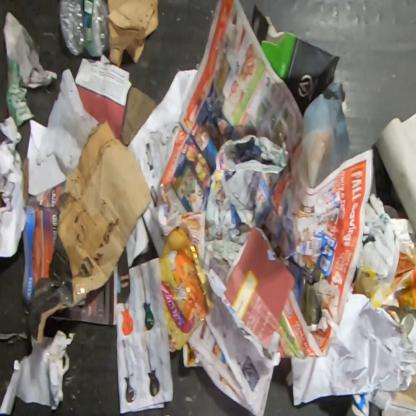cardboard: (28, 118, 154, 352), (250, 2, 342, 118), (2, 10, 58, 128), (106, 0, 160, 67), (120, 84, 158, 146)
rigid_plastic: (58, 0, 110, 57)
soft_plastic: (159, 227, 217, 353)
